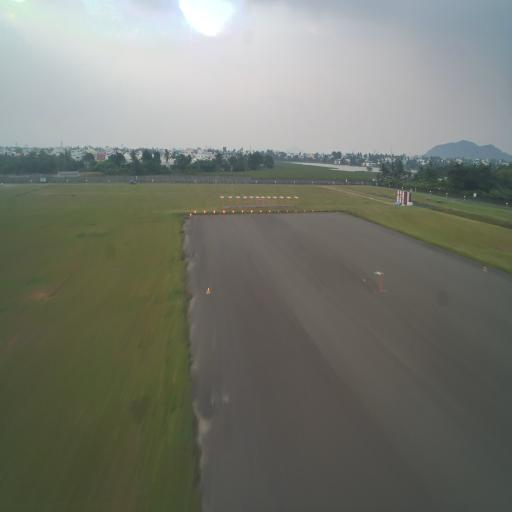off: (221, 394, 231, 408)
on: (206, 286, 210, 296), (483, 264, 487, 272), (194, 210, 197, 215), (222, 209, 225, 214), (268, 209, 271, 214), (328, 209, 331, 214), (241, 209, 244, 213), (311, 208, 314, 212), (190, 212, 192, 217), (232, 209, 234, 214), (260, 209, 262, 214), (204, 210, 206, 214), (213, 210, 215, 214), (251, 209, 253, 213), (278, 209, 280, 213), (295, 209, 297, 213), (304, 209, 306, 213), (286, 210, 288, 213), (320, 209, 322, 212)
